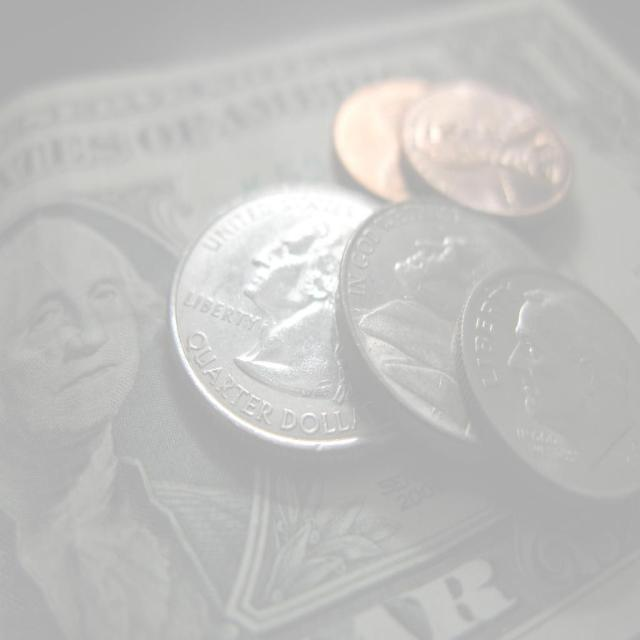Coin: (162, 174, 406, 454), (332, 189, 544, 444), (448, 260, 640, 506), (394, 78, 580, 215), (326, 72, 436, 202)
